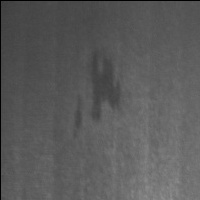inclusion: (86, 42, 125, 128), (64, 88, 91, 135)
